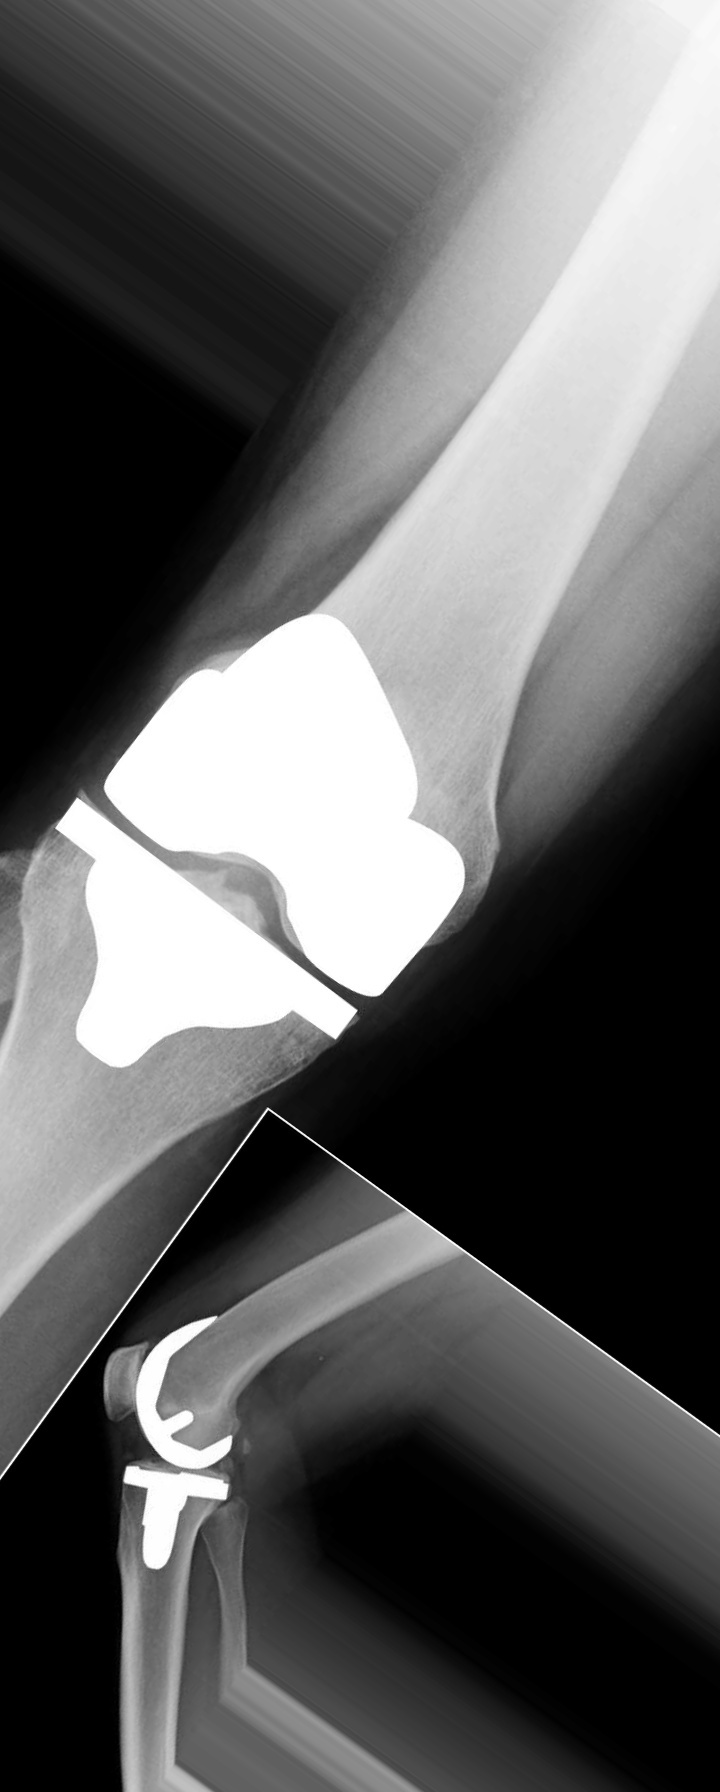Knee-Triathlon-Stryker: (49, 605, 466, 1077), (127, 1313, 235, 1579)
